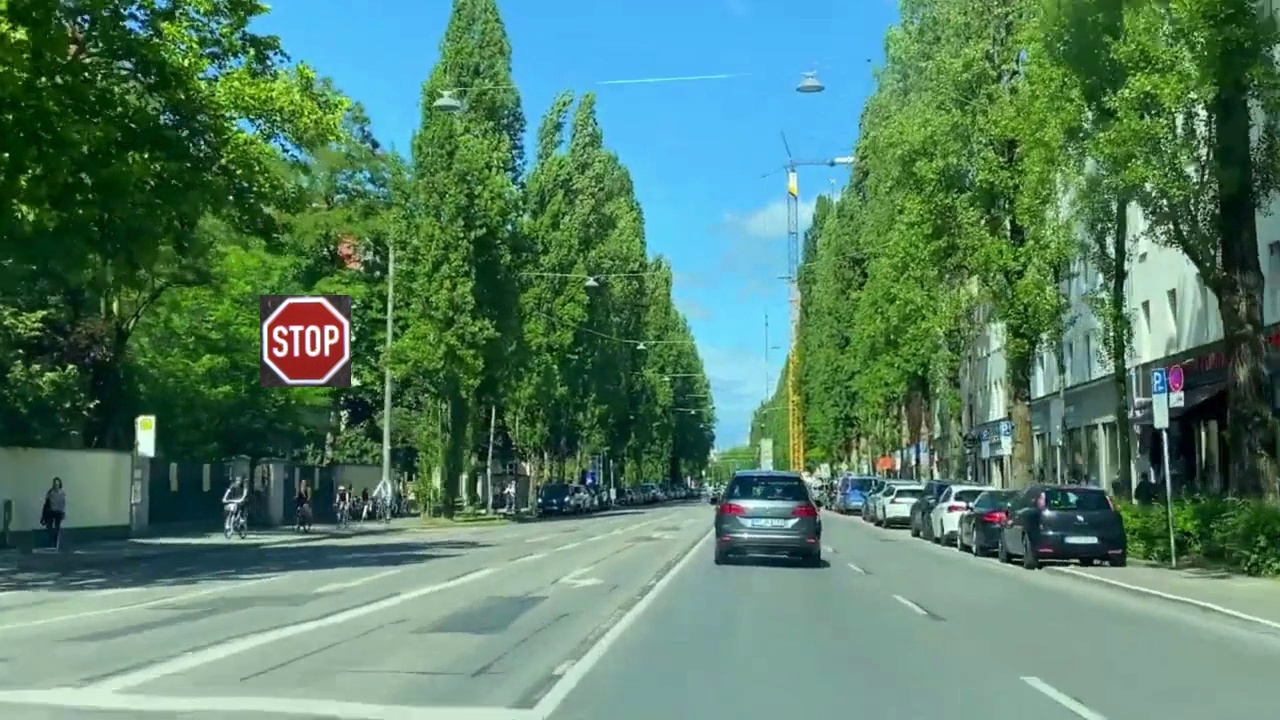Stop: (260, 295, 351, 387)
